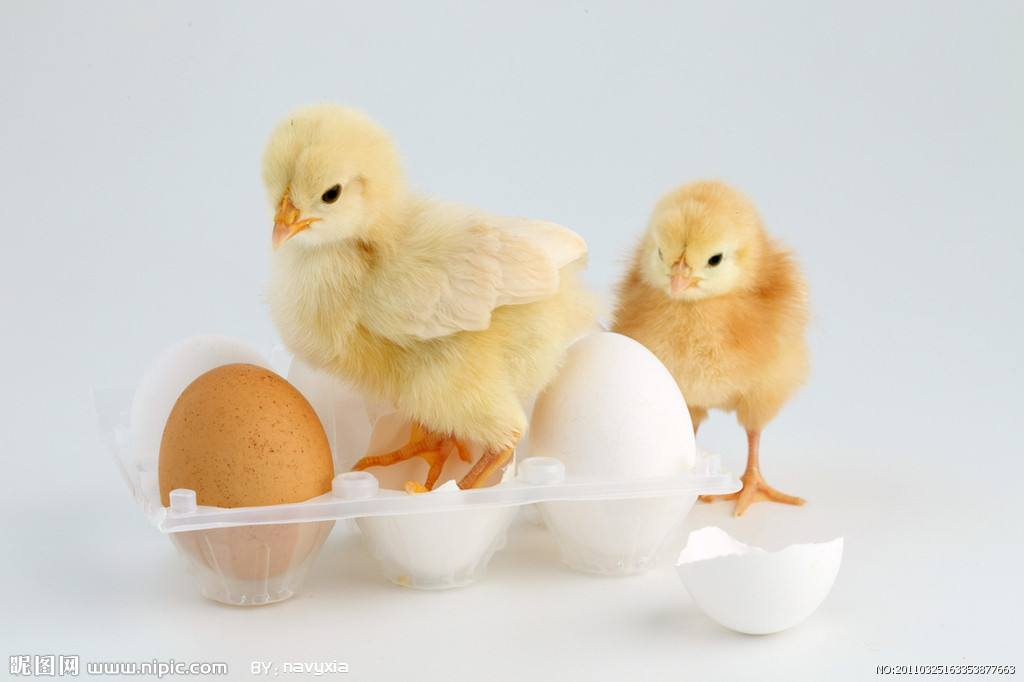chicken: (224, 68, 609, 494), (596, 170, 835, 516)
